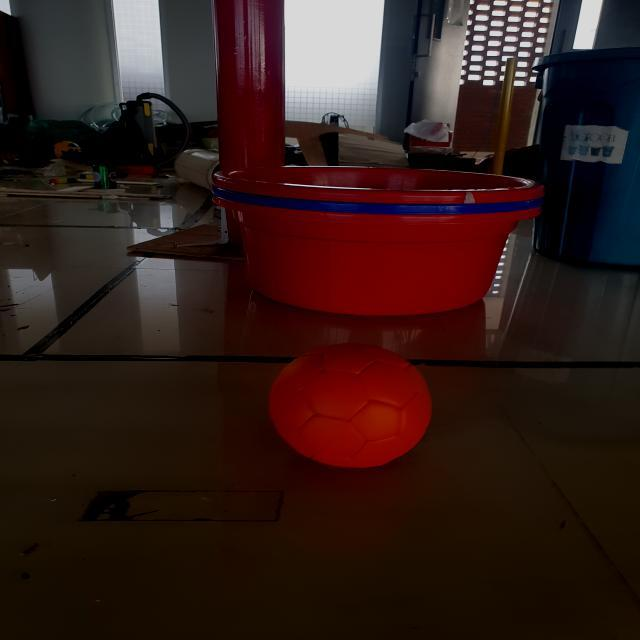bola: (258, 332, 454, 475)
